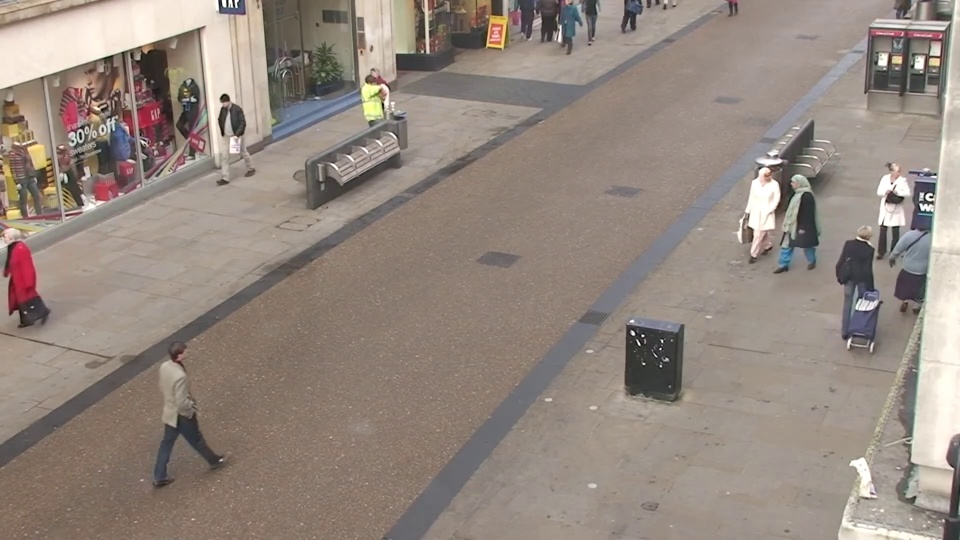pedestrian: (173, 327, 233, 475), (840, 215, 889, 338), (864, 162, 911, 272), (767, 170, 808, 280), (743, 162, 781, 271), (201, 91, 236, 178), (357, 72, 388, 154), (358, 63, 388, 144)
